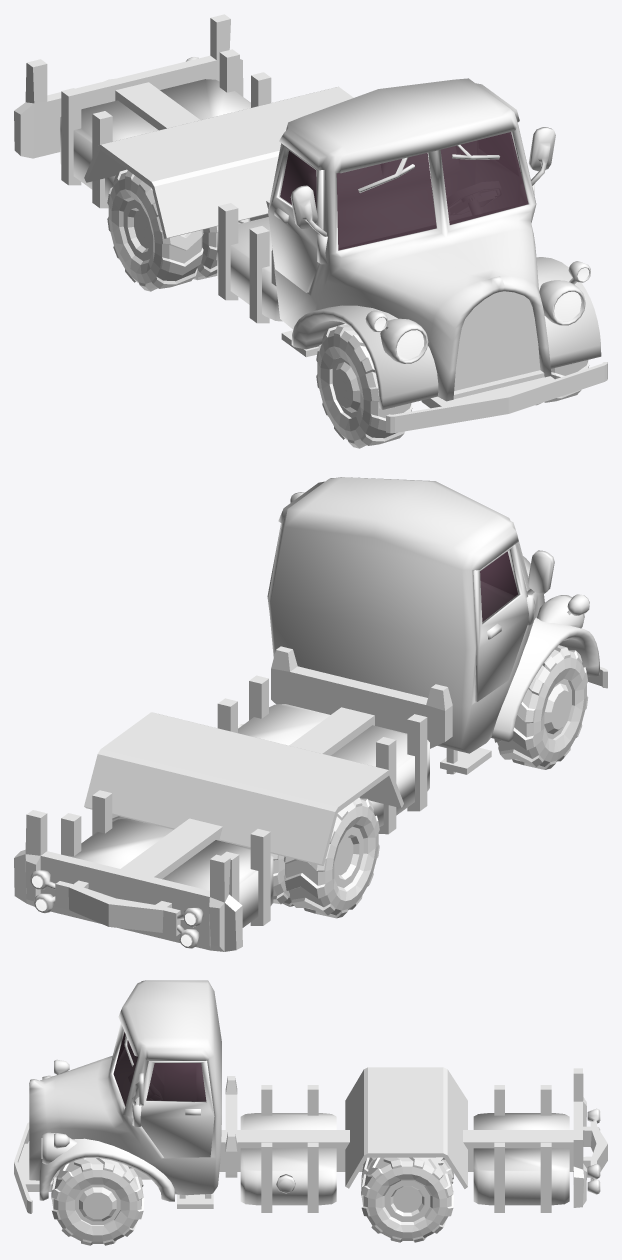
Rendered from Truck_Trailer2.glb.
3 views of the same model, one above another, from view 1: azimuth 30°, elevation 25°; view 2: azimuth 150°, elevation 25°; view 3: azimuth 270°, elevation 25° (orthographic). The views are drawn at different scales.
Visible parts, largest first — view 1: Truck_body, Truck_WheelCover, Truck_Engine, TruckModule_Laggage, Truck_Wheel_Back, Truck_Bumper, Truck_Wheel_Front.right, TruckModule_OilTank, Truck_Door.right, Truck_Chassy_Short; view 2: Truck_body, Truck_WheelCover, Truck_Bumper, Truck_Chassy_Short, TruckModule_Laggage, TruckModule_OilTank, Truck_Wheel_Back, Truck_Wheel_Front.right, Truck_Door.right; view 3: Truck_body, Truck_WheelCover, TruckModule_OilTank, TruckModule_Laggage, Truck_Wheel_Back, Truck_Wheel_Front.left, Truck_Door.left, Truck_Chassy_Short, Truck_Bumper, Truck_Engine.
Part boxes in pixels (bbox=[...]): Truck_body: bbox=[272, 78, 601, 409]; Truck_WheelCover: bbox=[84, 86, 353, 238]; Truck_Engine: bbox=[386, 291, 607, 433]; TruckModule_Laggage: bbox=[60, 49, 271, 208]; Truck_Wheel_Back: bbox=[107, 169, 250, 291]; Truck_Bumper: bbox=[14, 14, 243, 158]; Truck_Wheel_Front.right: bbox=[316, 323, 412, 448]; TruckModule_OilTank: bbox=[217, 203, 282, 323]; Truck_Door.right: bbox=[268, 143, 323, 292]; Truck_Chassy_Short: bbox=[115, 82, 276, 285]; Truck_body: bbox=[268, 477, 599, 774]; Truck_WheelCover: bbox=[84, 712, 403, 865]; Truck_Bumper: bbox=[14, 810, 242, 951]; Truck_Chassy_Short: bbox=[121, 646, 452, 878]; TruckModule_Laggage: bbox=[61, 790, 273, 927]; TruckModule_OilTank: bbox=[217, 675, 429, 834]; Truck_Wheel_Back: bbox=[112, 797, 379, 918]; Truck_Wheel_Front.right: bbox=[494, 645, 588, 769]; Truck_Door.right: bbox=[473, 544, 528, 701]; Truck_body: bbox=[29, 980, 221, 1208]; Truck_WheelCover: bbox=[345, 1067, 467, 1188]; TruckModule_OilTank: bbox=[240, 1085, 336, 1212]; TruckModule_Laggage: bbox=[473, 1085, 569, 1212]; Truck_Wheel_Back: bbox=[361, 1157, 453, 1242]; Truck_Wheel_Front.left: bbox=[51, 1158, 144, 1245]; Truck_Door.left: bbox=[139, 1060, 214, 1157]; Truck_Chassy_Short: bbox=[219, 1076, 573, 1177]; Truck_Bumper: bbox=[573, 1068, 607, 1207]; Truck_Engine: bbox=[14, 1122, 150, 1213].
Size of the model in its own units: 5.06 by 5.11 by 13.39.
